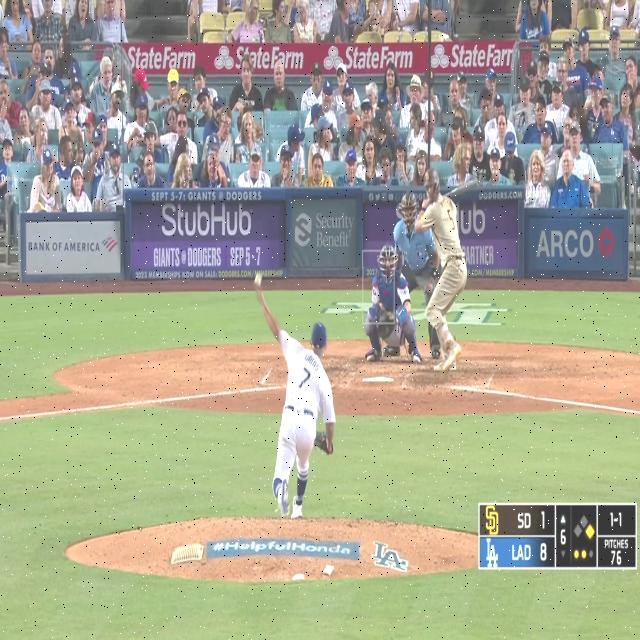baseball: (255, 273, 262, 287)
